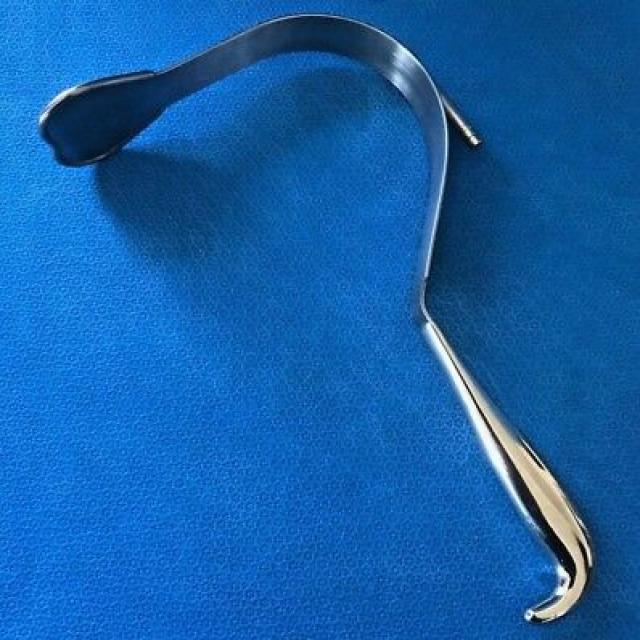Hrrington retractor: (35, 11, 599, 627)
